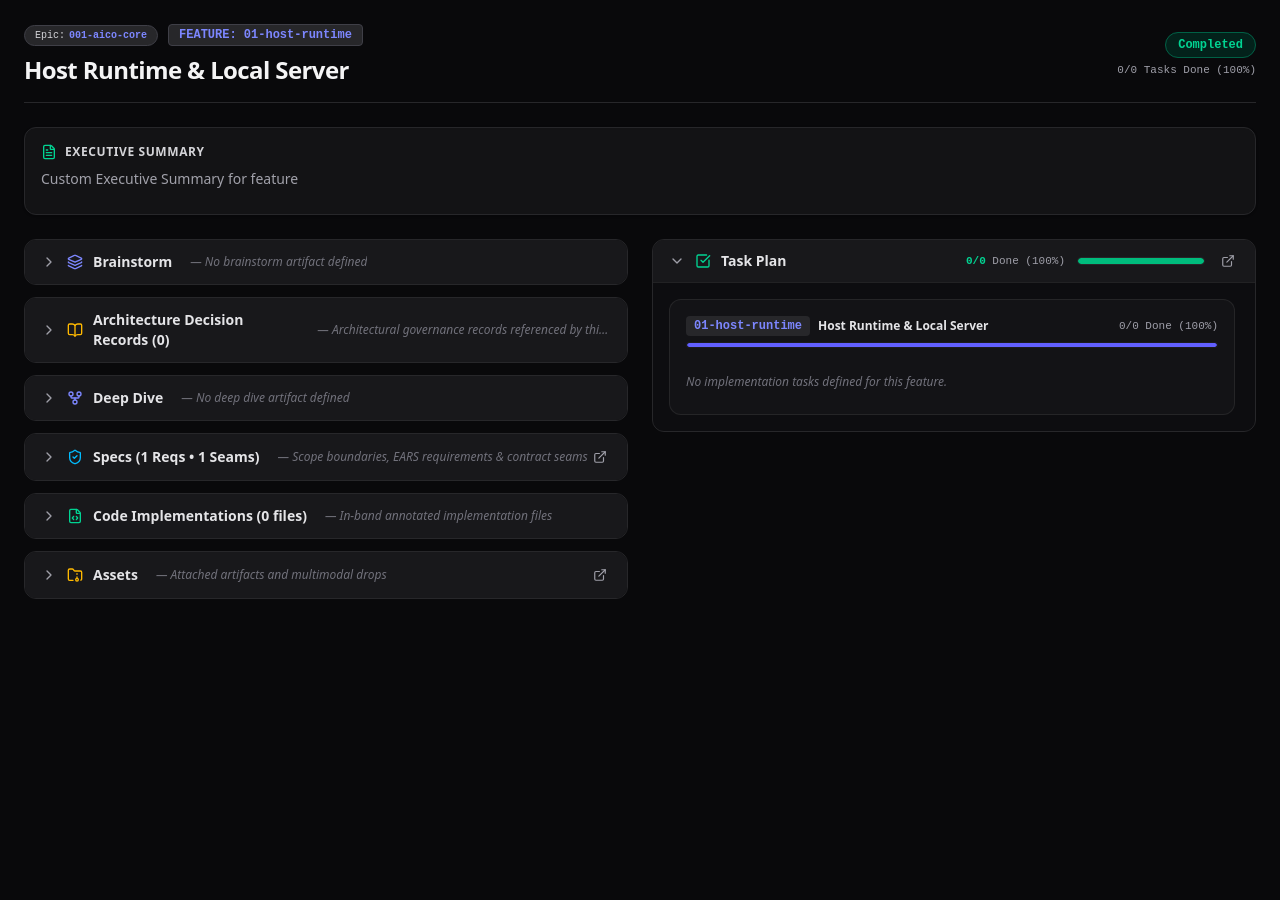
Test case: FeatureViewer Component › renders Specs accordion with Scope Boundaries, EARS requirements, and Designated Public Test Seams
The image size is (1280, 900).
Expected: the text "Custom Executive Summary for feature" is shown, [41, 169, 298, 188]
Expected: the text "In-scope item 1" is not shown
# Click to open Specs
Click the text "Specs (1 Reqs • 1 Seams)". click: (176, 457)
box: [93, 447, 260, 467]
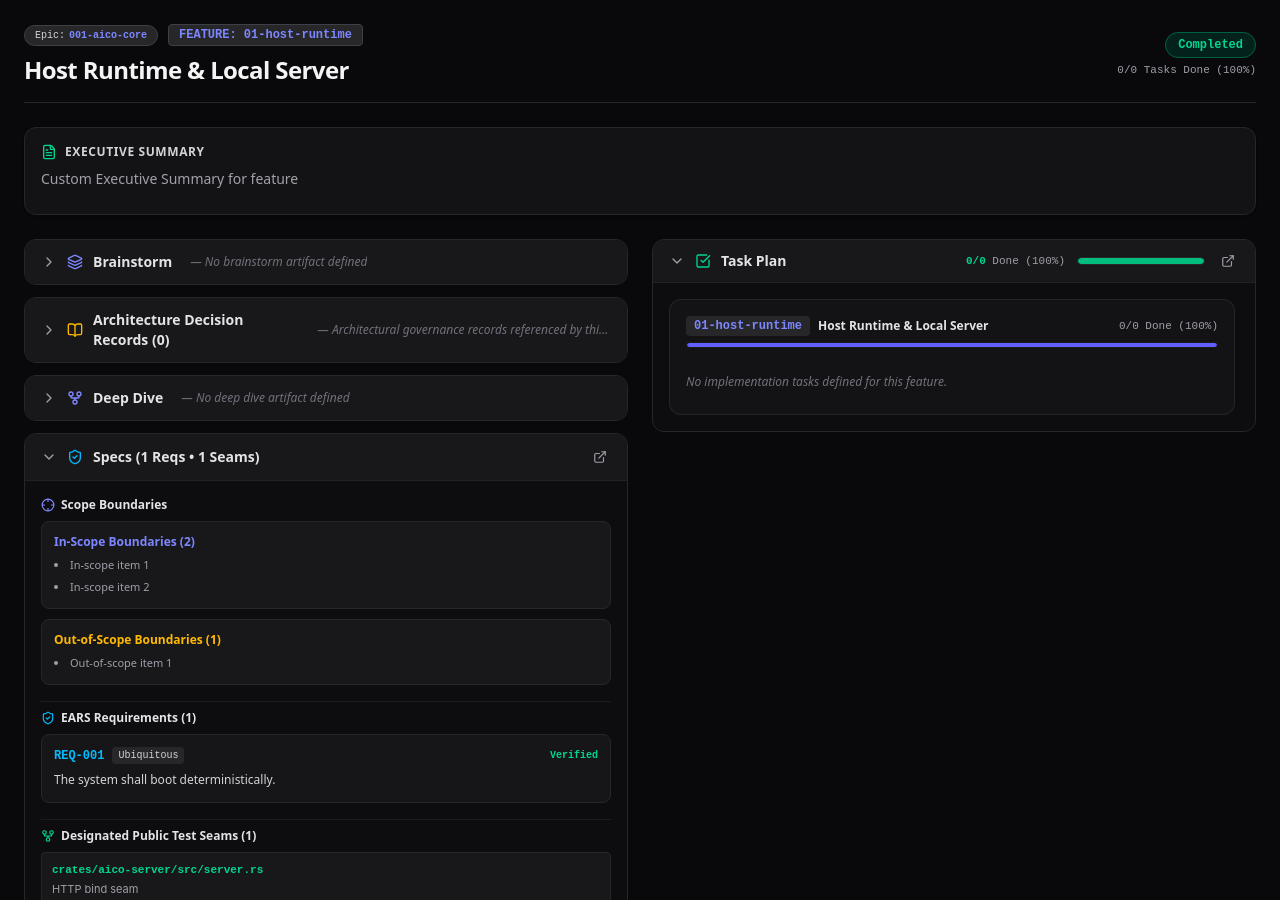
Expected: the list item "In-scope item 1" is shown, [70, 557, 150, 572]
Expected: the list item "In-scope item 2" is shown, [70, 579, 150, 594]
Expected: the list item "Out-of-scope item 1" is shown, [70, 655, 172, 670]
